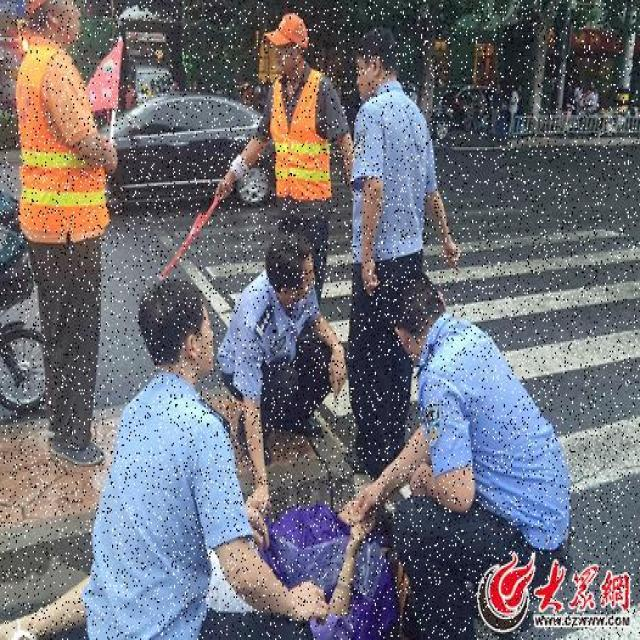fall: (0, 499, 378, 638)
